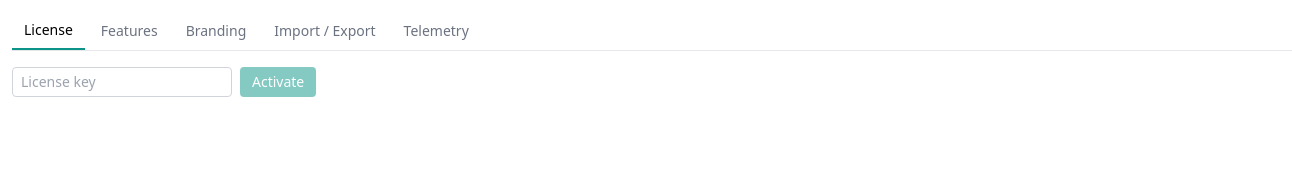
Scenario: CommercialPage › lists existing backups under Import / Export
Click the button "Import / Export" at (325, 31), box [262,12,388,50]
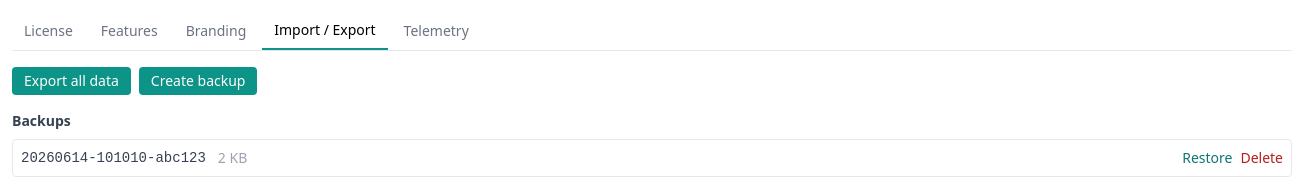
Now the text "20260614-101010-abc123" is shown, box [21,148,206,168]
